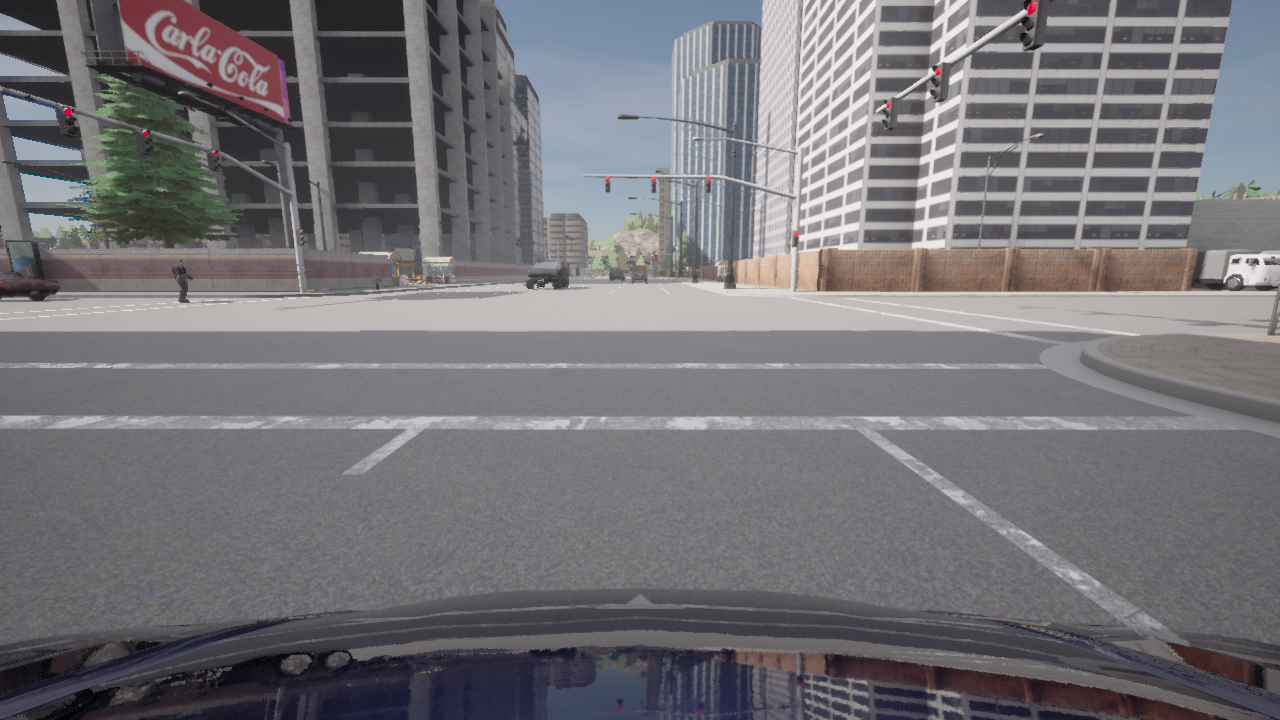cyclist: (0, 588, 1279, 719), (1192, 250, 1279, 290), (525, 261, 568, 289), (1260, 250, 1279, 287), (632, 270, 647, 282), (609, 268, 624, 280), (633, 265, 646, 271), (632, 267, 647, 272), (613, 278, 617, 280)
pedestrian: (173, 256, 191, 301), (374, 272, 380, 288)
